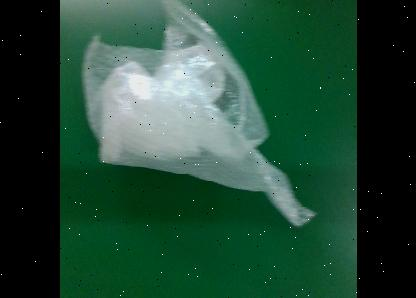Others: (80, 2, 314, 226)
